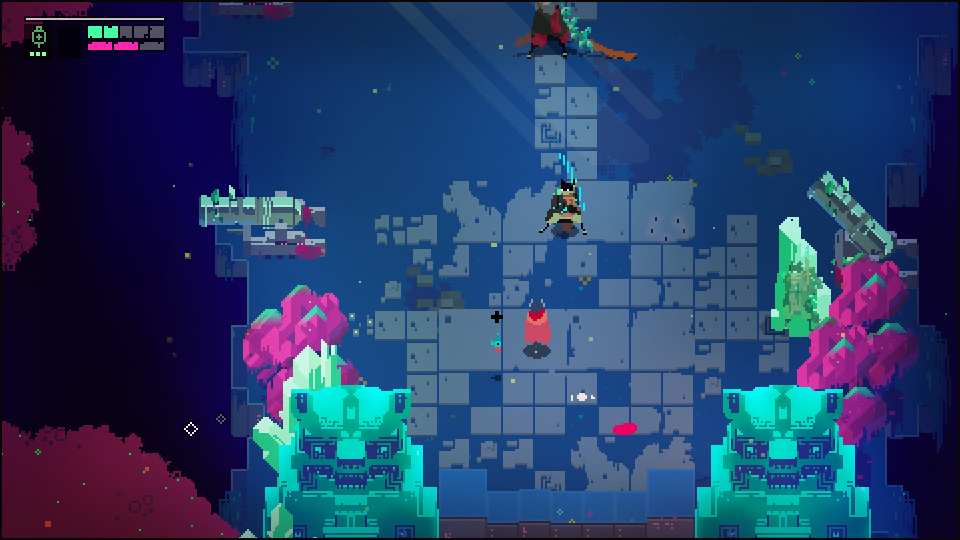player: (524, 296, 552, 356)
